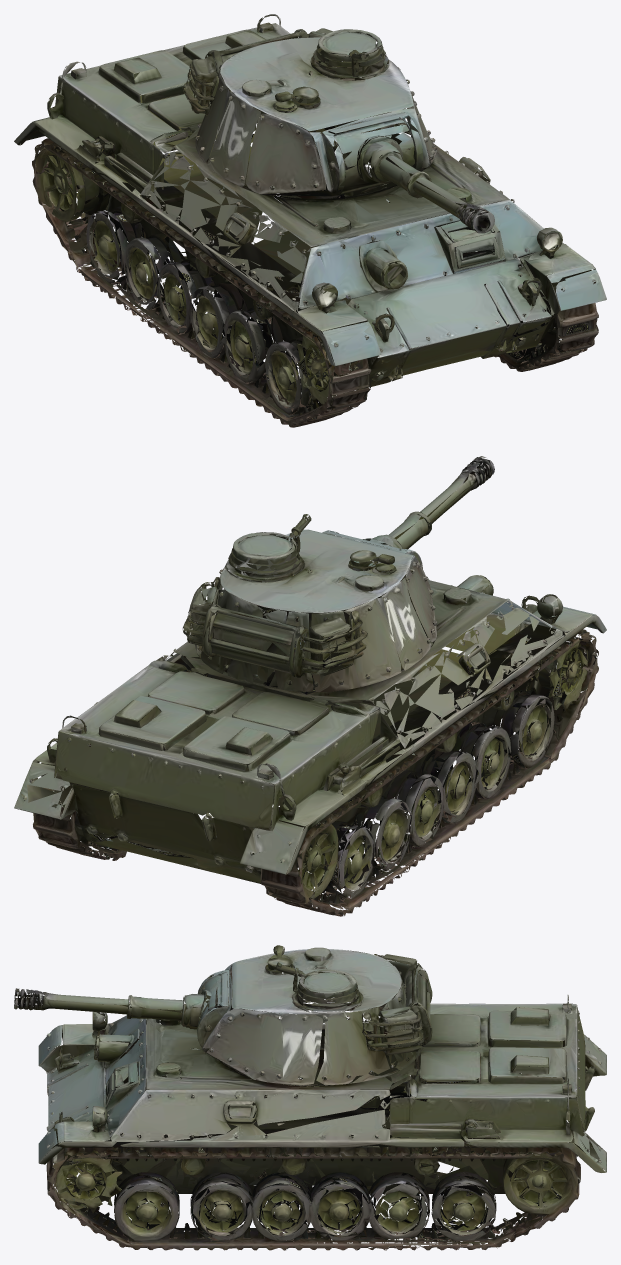
File: tank_new.glb
3 renders of one model, top to bottom at view 1: azimuth 30°, elevation 25°; view 2: azimuth 150°, elevation 25°; view 3: azimuth 270°, elevation 25°, orthographic. The views are drawn at different scales.
Visible parts, largest first — view 1: node_0; view 2: node_0; view 3: node_0.
Part boxes in pixels (x1,y1,x2,y2): node_0: (14, 14, 606, 427); node_0: (14, 456, 606, 916); node_0: (14, 945, 606, 1250).
Size of the model in its own units: 0.5077 by 0.489 by 1.08.
1 material, 1 textured.
